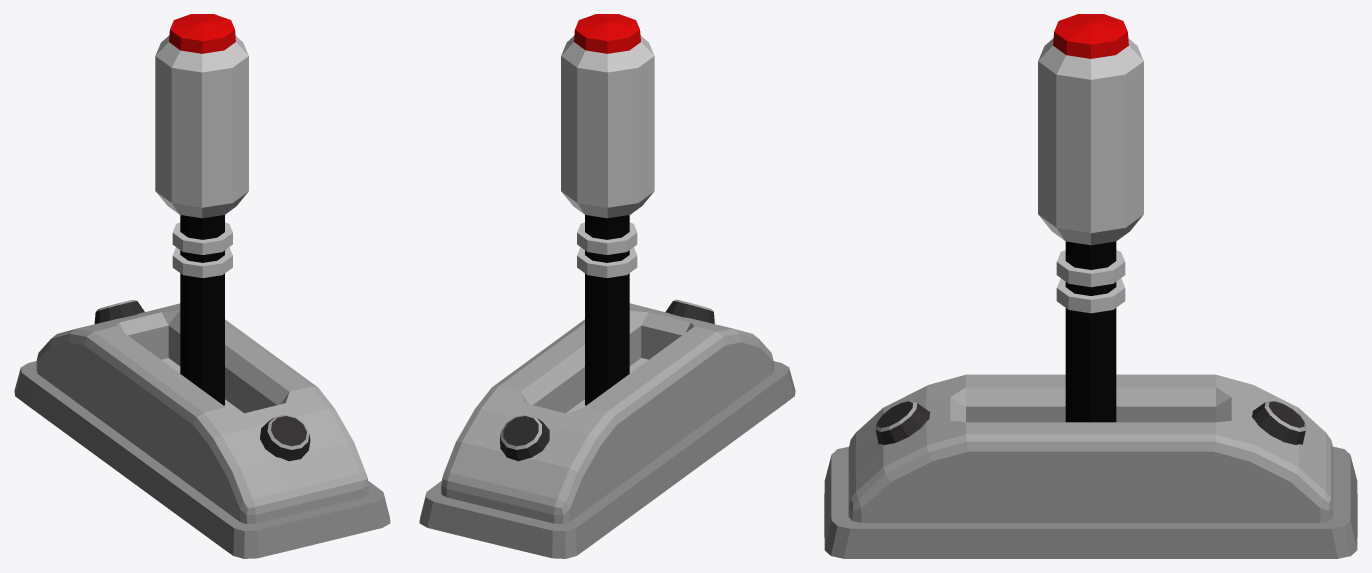
File: Lever.fbx
3 views of the same model, side by side, from view 1: azimuth 30°, elevation 25°; view 2: azimuth 150°, elevation 25°; view 3: azimuth 270°, elevation 25° (orthographic). The views are drawn at different scales.
Parts seen in each view (by area): view 1: LeverBase, LeverHandle; view 2: LeverBase, LeverHandle; view 3: LeverBase, LeverHandle.
Part boxes in pixels (x1=…): LeverBase: x1=14, y1=299, x2=390, y2=558; LeverHandle: x1=155, y1=14, x2=248, y2=405; LeverBase: x1=419, y1=299, x2=795, y2=558; LeverHandle: x1=561, y1=14, x2=654, y2=405; LeverBase: x1=824, y1=374, x2=1357, y2=558; LeverHandle: x1=1038, y1=14, x2=1143, y2=422.
Bounding box in the file's own units: 63.55 × 168 × 165.
